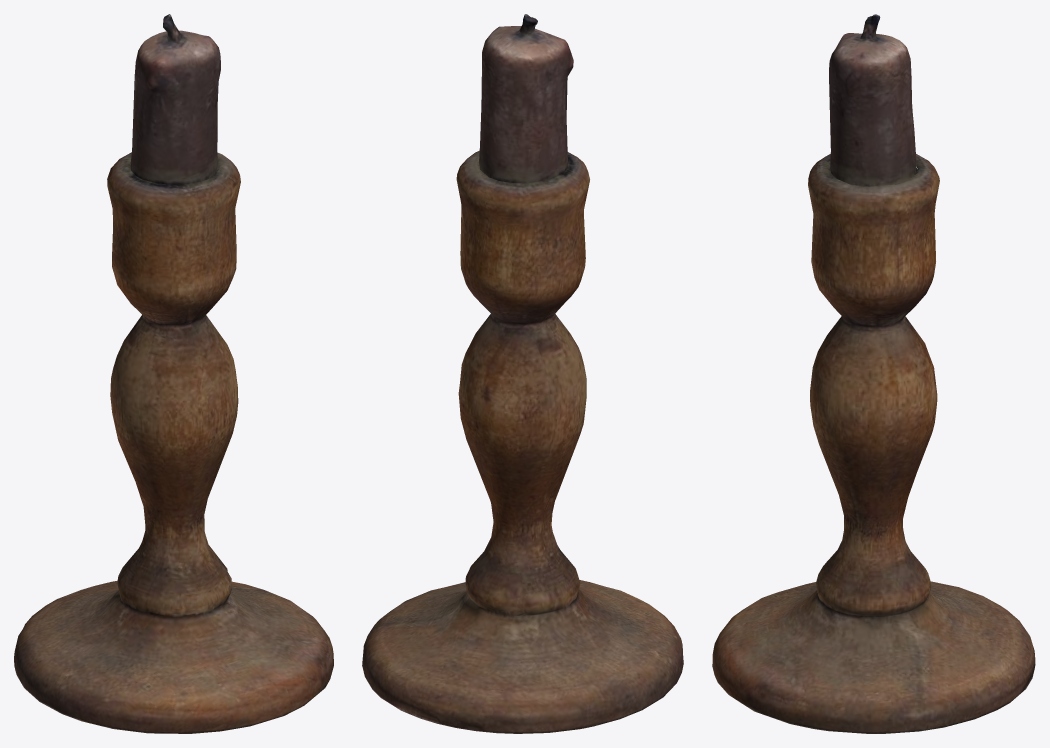
File: candle_wood.glb
3 views of the same model, side by side, from view 1: azimuth 30°, elevation 25°; view 2: azimuth 150°, elevation 25°; view 3: azimuth 270°, elevation 25° (orthographic).
Parts seen in each view (by area): view 1: wooden_candlestick; view 2: wooden_candlestick; view 3: wooden_candlestick.
Part boxes in pixels (box(x1,y1,x2,y2)): wooden_candlestick: box(14, 14, 333, 733); wooden_candlestick: box(362, 14, 683, 733); wooden_candlestick: box(712, 14, 1035, 733).
Bounding box in the file's own units: 0.0972 × 0.2196 × 0.0986.
1 material, 1 textured.
